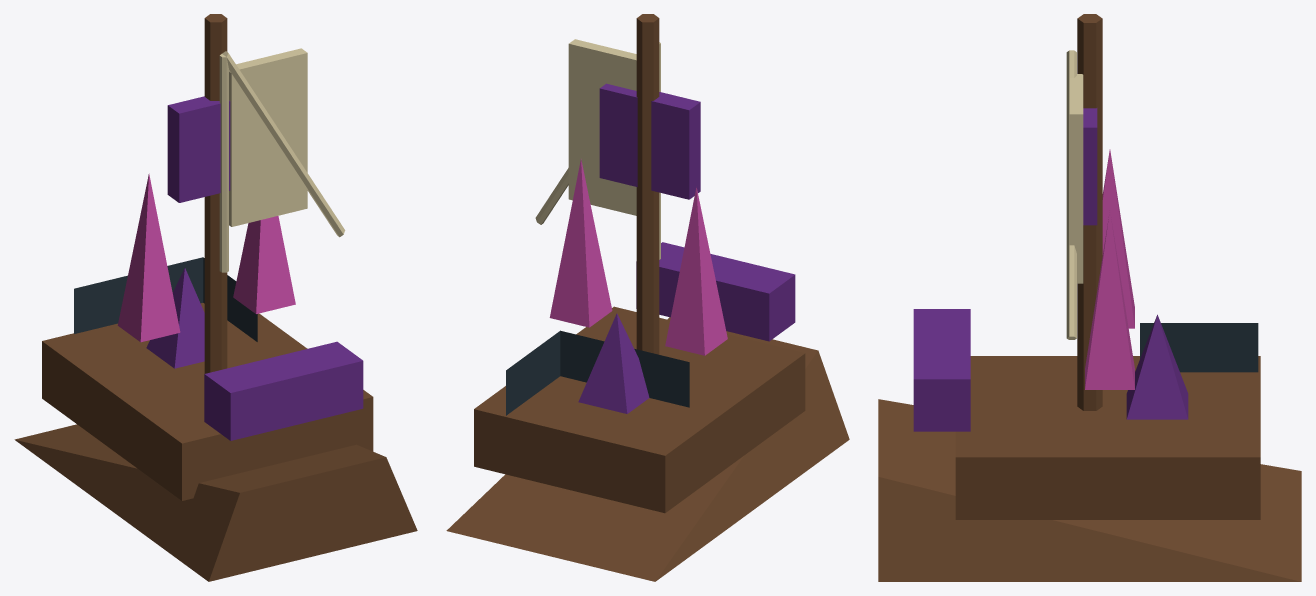
The model's file is ship.obj.
The picture shows the model from 3 angles, left to right: view 1: azimuth 30°, elevation 25°; view 2: azimuth 150°, elevation 25°; view 3: azimuth 270°, elevation 25°; orthographic projection. The views are drawn at different scales.
Visible parts, largest first — view 1: ship; view 2: ship; view 3: ship.
Boxes of the visible parts, x1=… form: ship: x1=14, y1=14, x2=417, y2=581; ship: x1=446, y1=14, x2=849, y2=581; ship: x1=878, y1=14, x2=1301, y2=581.
Bounding box in the file's own units: 1.13 × 2.24 × 1.69.
